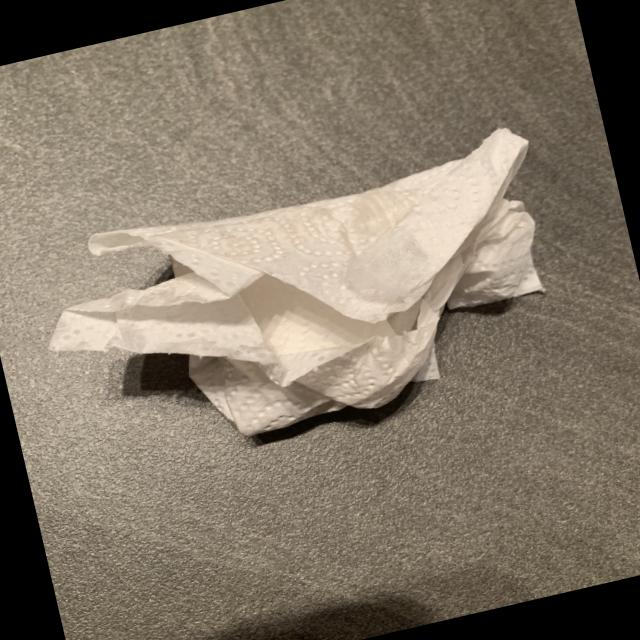organic waste: (29, 119, 588, 478)
